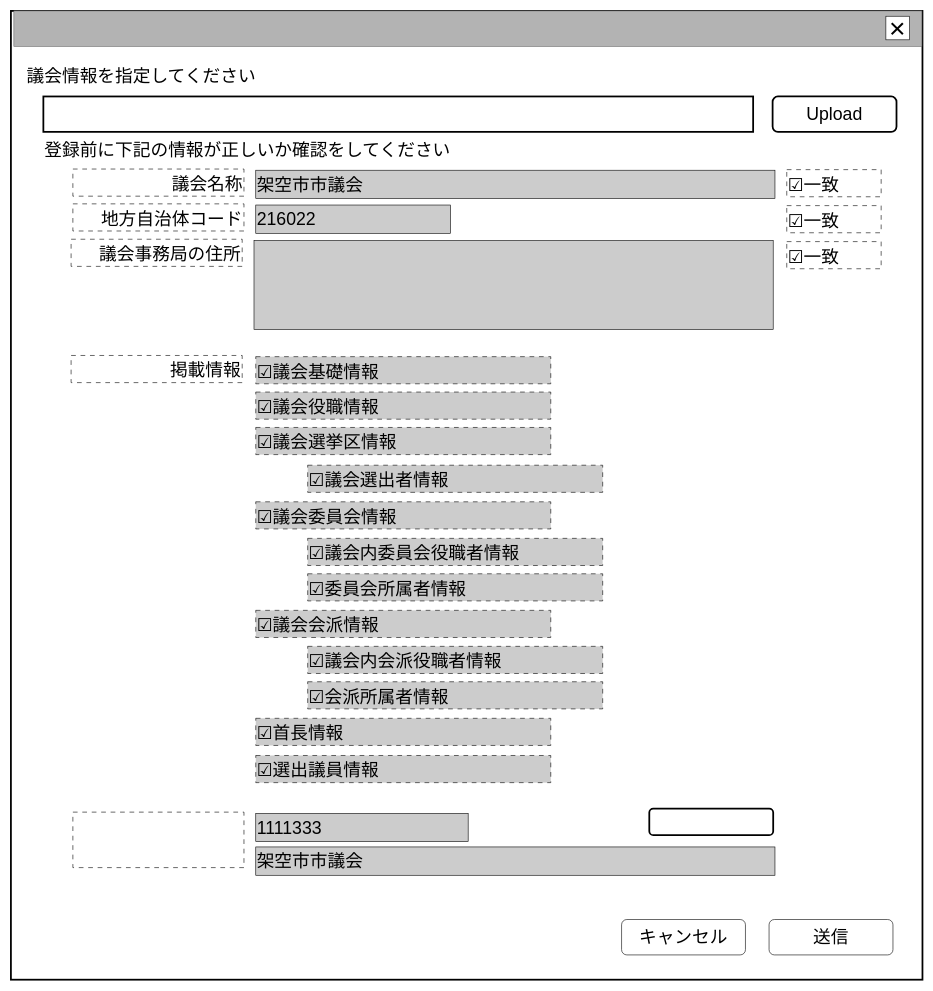
This 933x991 diagram has some shape labels left out. The shapes that lost their labels are listed below. From the top down, each one's centre as x and y in pixels, then its label:
the point at 513,285: 東京都架空市架空町999番地市議会庁舎4F
the point at 158,840: 結びつける登録済の議会
the point at 711,821: 検索
